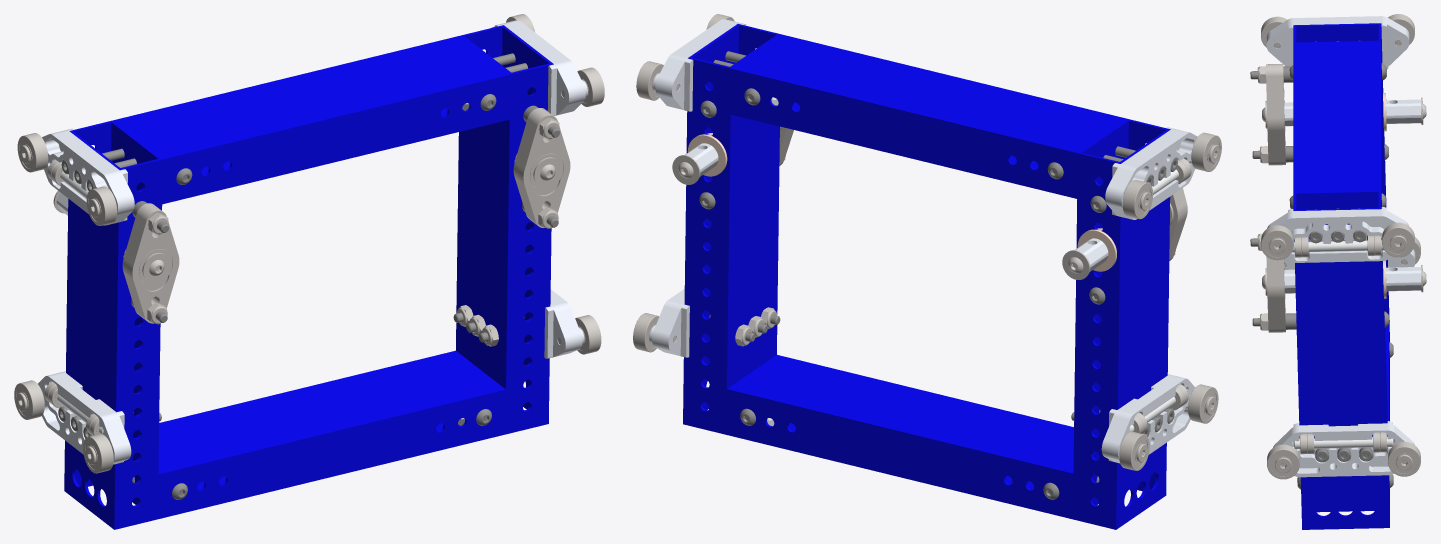
3 views of the same model, side by side, from view 1: azimuth 30°, elevation 25°; view 2: azimuth 150°, elevation 25°; view 3: azimuth 270°, elevation 25° (orthographic). The views are drawn at different scales.
Visible parts, largest first — view 1: Carriage H tube.001, Carriage H tube, Carriage V tube, Carriage V tube.001, WCP-0897-001 Rev1, Ratchet Plate (1/2" Hex) (WCP-0585).001, Ratchet Plate (1/2" Hex) (WCP-0585), WCP-0897-001 Rev1.003, 0.250" ID x 0.750" OD x 0.282" WD (Radial Bearing) (WCP-021. (×4), WCP-0897-001 Rev1.002, WCP-0897-001 Rev1.001, 0.250" ID x 0.750" OD x 0.282" WD (Radial Bearing) (WCP-021 (+1 smaller); view 2: Carriage H tube.001, Carriage H tube, Carriage V tube, Carriage V tube.001, WCP-0897-001 Rev1, WCP-0897-001 Rev1.003, 0.250" ID x 0.750" OD x 0.282" WD (Radial Bearing) (WCP-021. (×4), WCP-0897-001 Rev1.002, WCP-0897-001 Rev1.001, Ratchet Plate (1/2" Hex) (WCP-0585), 0.250" ID x 0.750" OD x 0.282" WD (Radial Bearing) (WCP-021, 0.250" ID x 0.750" OD x 0.282" WD (Radial Bearing) (WCP-0212 (+3 smaller); view 3: Carriage V tube, Carriage H tube.001, WCP-0897-001 Rev1.002, WCP-0897-001 Rev1.001, 0.250" ID x 0.750" OD x 0.282" WD (Radial Bearing) (WCP-021. (×4), WCP-0897-001 Rev1, Carriage V tube.001, Ratchet Plate (1/2" Hex) (WCP-0585), Ratchet Plate (1/2" Hex) (WCP-0585).001, Tension Shaft.001, Tension Shaft, WCP-0897-002 Rev1.002 (+6 smaller).
Boxes of the visible parts, left/top/right/bottom form: Carriage H tube.001: left=113, top=36, right=510, bottom=204; Carriage H tube: left=158, top=350, right=505, bottom=519; Carriage V tube: left=456, top=25, right=553, bottom=434; Carriage V tube.001: left=64, top=120, right=162, bottom=529; WCP-0897-001 Rev1: left=42, top=128, right=134, bottom=225; Ratchet Plate (1/2" Hex) (WCP-0585).001: left=513, top=108, right=570, bottom=227; Ratchet Plate (1/2" Hex) (WCP-0585): left=122, top=203, right=179, bottom=323; WCP-0897-001 Rev1.003: left=38, top=371, right=131, bottom=464; 0.250" ID x 0.750" OD x 0.282" WD (Radial Bearing) (WCP-021. (×4): left=14, top=67, right=604, bottom=473; WCP-0897-001 Rev1.002: left=491, top=20, right=587, bottom=115; WCP-0897-001 Rev1.001: left=544, top=289, right=584, bottom=358; 0.250" ID x 0.750" OD x 0.282" WD (Radial Bearing) (WCP-021: left=86, top=186, right=117, bottom=225; Carriage H tube.001: left=730, top=34, right=1127, bottom=198; Carriage H tube: left=726, top=355, right=1073, bottom=519; Carriage V tube: left=683, top=24, right=780, bottom=434; Carriage V tube.001: left=1073, top=119, right=1170, bottom=529; WCP-0897-001 Rev1: left=1105, top=127, right=1197, bottom=219; WCP-0897-001 Rev1.003: left=1101, top=374, right=1194, bottom=463; 0.250" ID x 0.750" OD x 0.282" WD (Radial Bearing) (WCP-021. (×4): left=633, top=61, right=1218, bottom=470; WCP-0897-001 Rev1.002: left=653, top=19, right=746, bottom=111; WCP-0897-001 Rev1.001: left=649, top=289, right=689, bottom=357; Ratchet Plate (1/2" Hex) (WCP-0585): left=1169, top=188, right=1187, bottom=260; 0.250" ID x 0.750" OD x 0.282" WD (Radial Bearing) (WCP-021: left=1191, top=132, right=1221, bottom=171; 0.250" ID x 0.750" OD x 0.282" WD (Radial Bearing) (WCP-0212: left=1122, top=180, right=1153, bottom=219; Carriage V tube: left=1293, top=190, right=1389, bottom=529; Carriage H tube.001: left=1293, top=42, right=1382, bottom=205; WCP-0897-001 Rev1.002: left=1267, top=207, right=1408, bottom=262; WCP-0897-001 Rev1.001: left=1273, top=421, right=1414, bottom=477; 0.250" ID x 0.750" OD x 0.282" WD (Radial Bearing) (WCP-021. (×4): left=1261, top=222, right=1420, bottom=479; WCP-0897-001 Rev1: left=1266, top=16, right=1409, bottom=69; Carriage V tube.001: left=1293, top=23, right=1389, bottom=341; Ratchet Plate (1/2" Hex) (WCP-0585): left=1266, top=64, right=1285, bottom=165; Ratchet Plate (1/2" Hex) (WCP-0585).001: left=1266, top=256, right=1285, bottom=332; Tension Shaft.001: left=1284, top=267, right=1421, bottom=293; Tension Shaft: left=1284, top=99, right=1421, bottom=126; WCP-0897-002 Rev1.002: left=1292, top=240, right=1383, bottom=252.
Size of the model in its own units: 0.2956 by 0.2044 by 0.1016.
